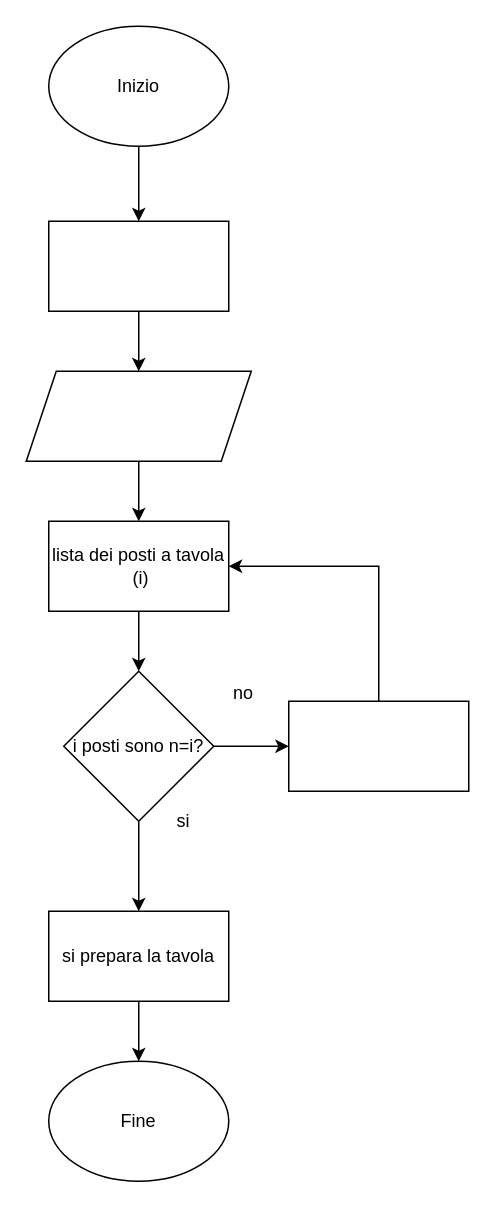
This 495x1220 diagram has some shape labels left out. The centre of each missing label's shape, as x and y in pixels:
aggiungi a tavola, i posti x=n-i: [378,745]
Conta i posti a tavola: [138,415]
Crea una lista degli invitati (n): [138,265]
